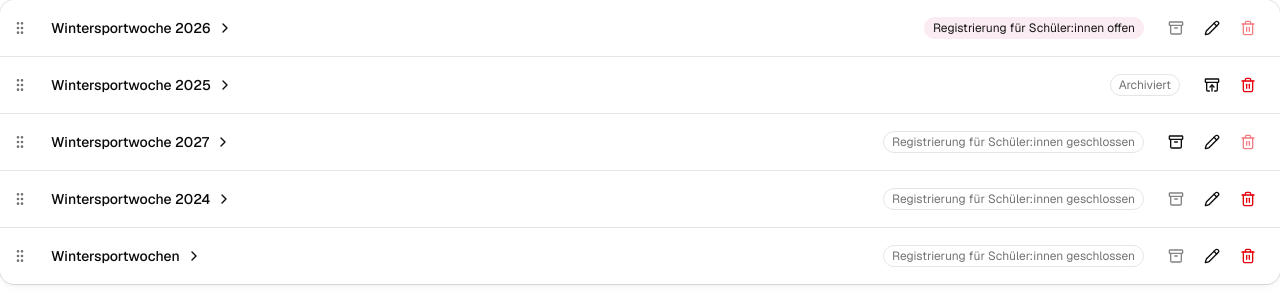
Test: EventSeriesList — tooltips › labels the restore icon differently from the archive icon
This screenshot has width=1280, height=303.
Step 1. Hover over the button named "Eventreihe Wintersportwoche 2025 wiederherstellen" → point(1212, 85), box [1196, 69, 1228, 101]
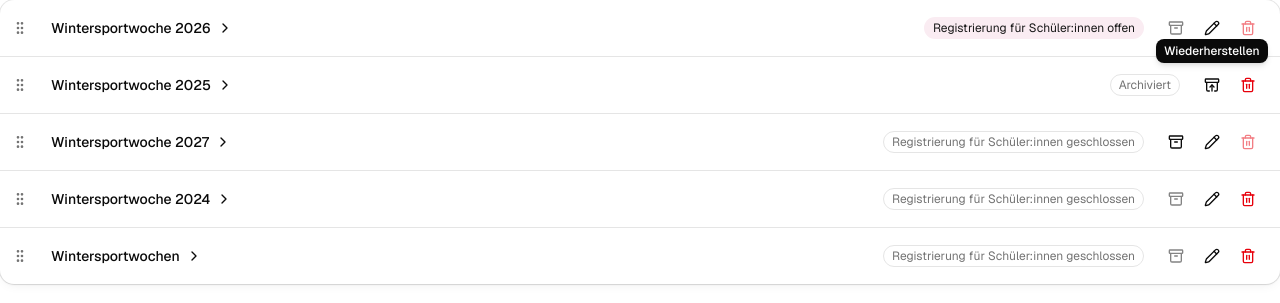
Now the text "Wiederherstellen" is shown, box [1156, 39, 1268, 63]
